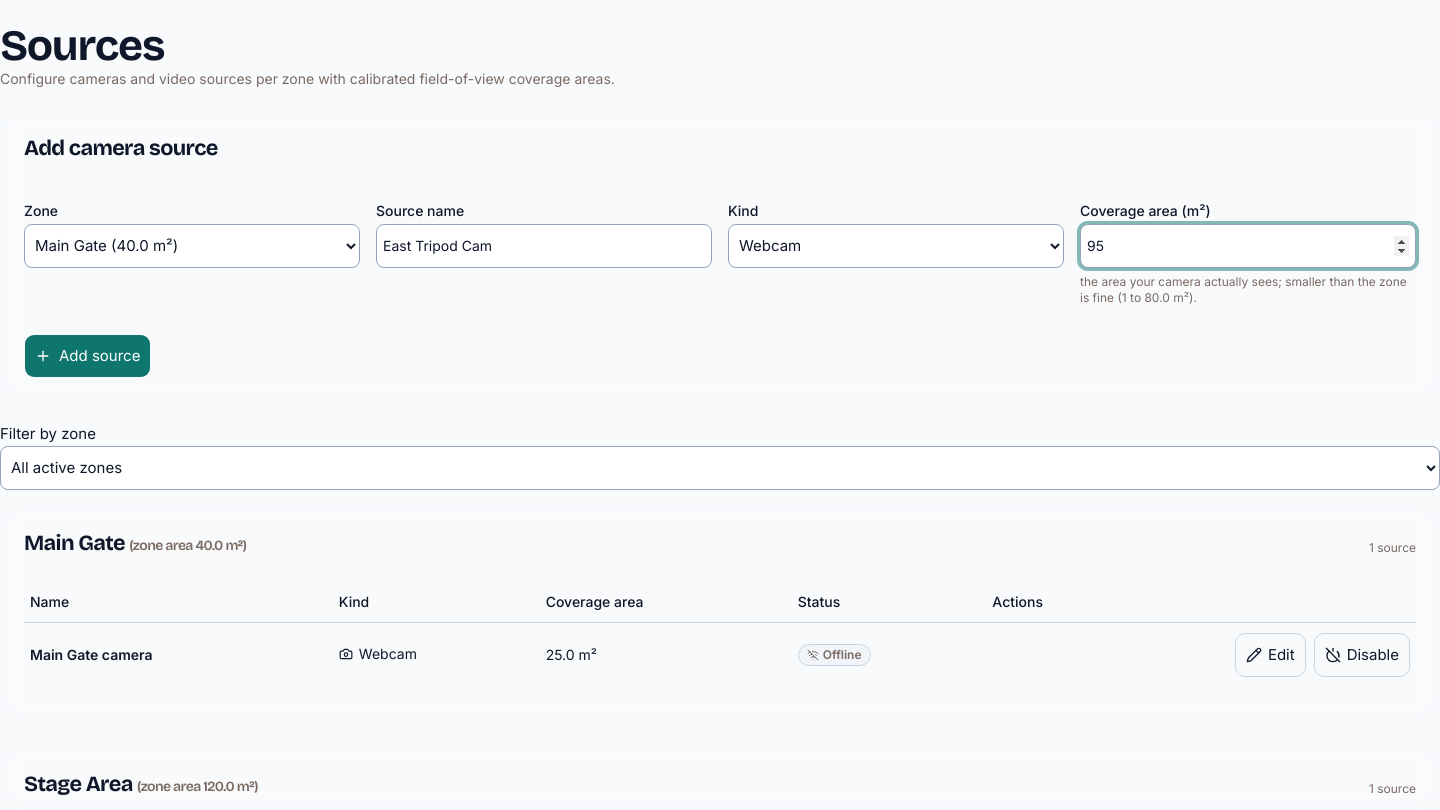
it: AdminSourcesPage (/admin/sources) › validates 1 <= coverage <= 2x zone area, creates/edits/disables sources, and passes axe
Earlier steps of the test are not shown.
Later steps or results of the test are not shown.
Click the button "Add source": click(88, 356) [24, 334, 151, 378]
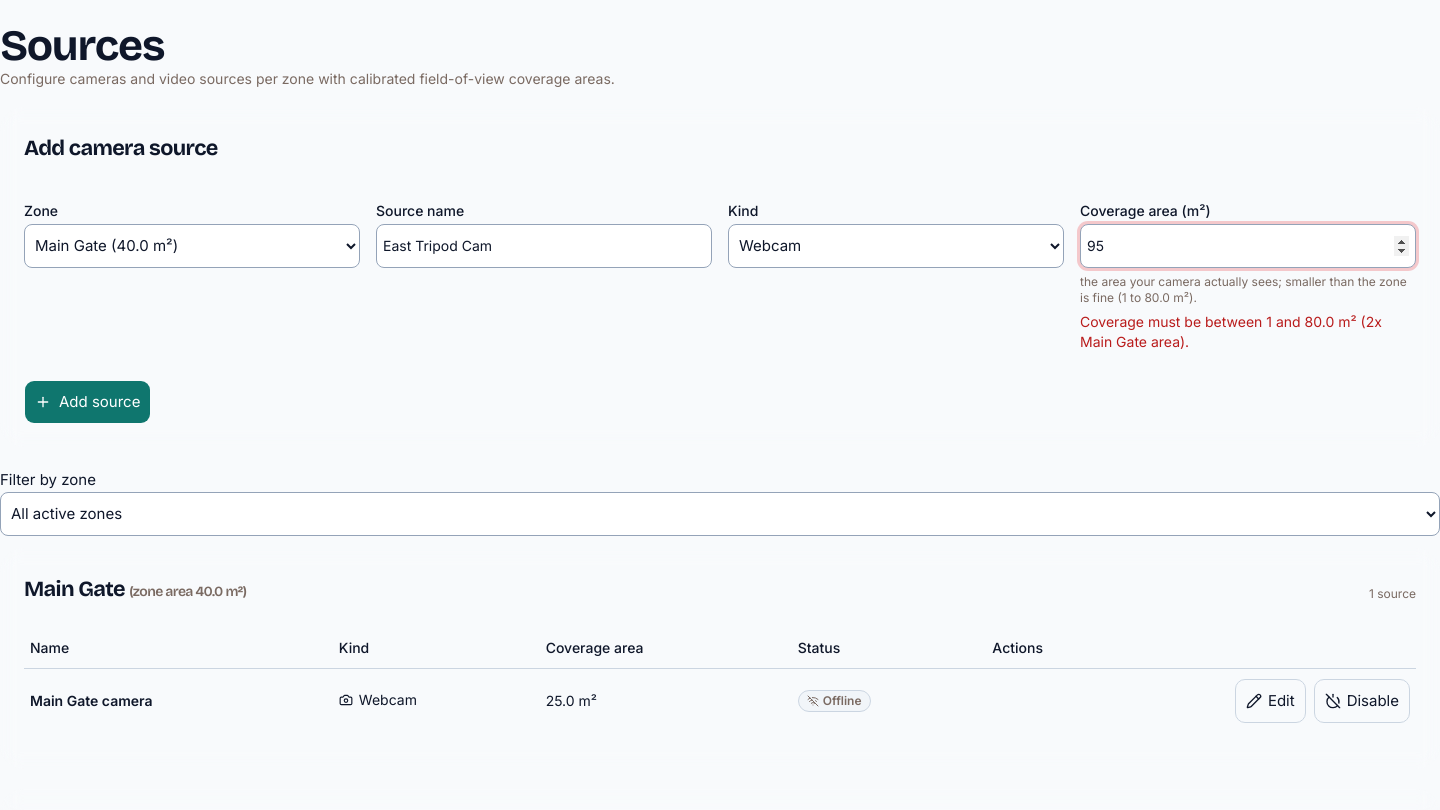
Result: the text "Coverage must be between 1 and 80.0 m² (2x Main Gate area)." is shown at [1080, 312, 1416, 352]
Replace the text in the number field labelled "Coverage area (m²)" with "25.5": (1248, 246) [1080, 224, 1416, 268]
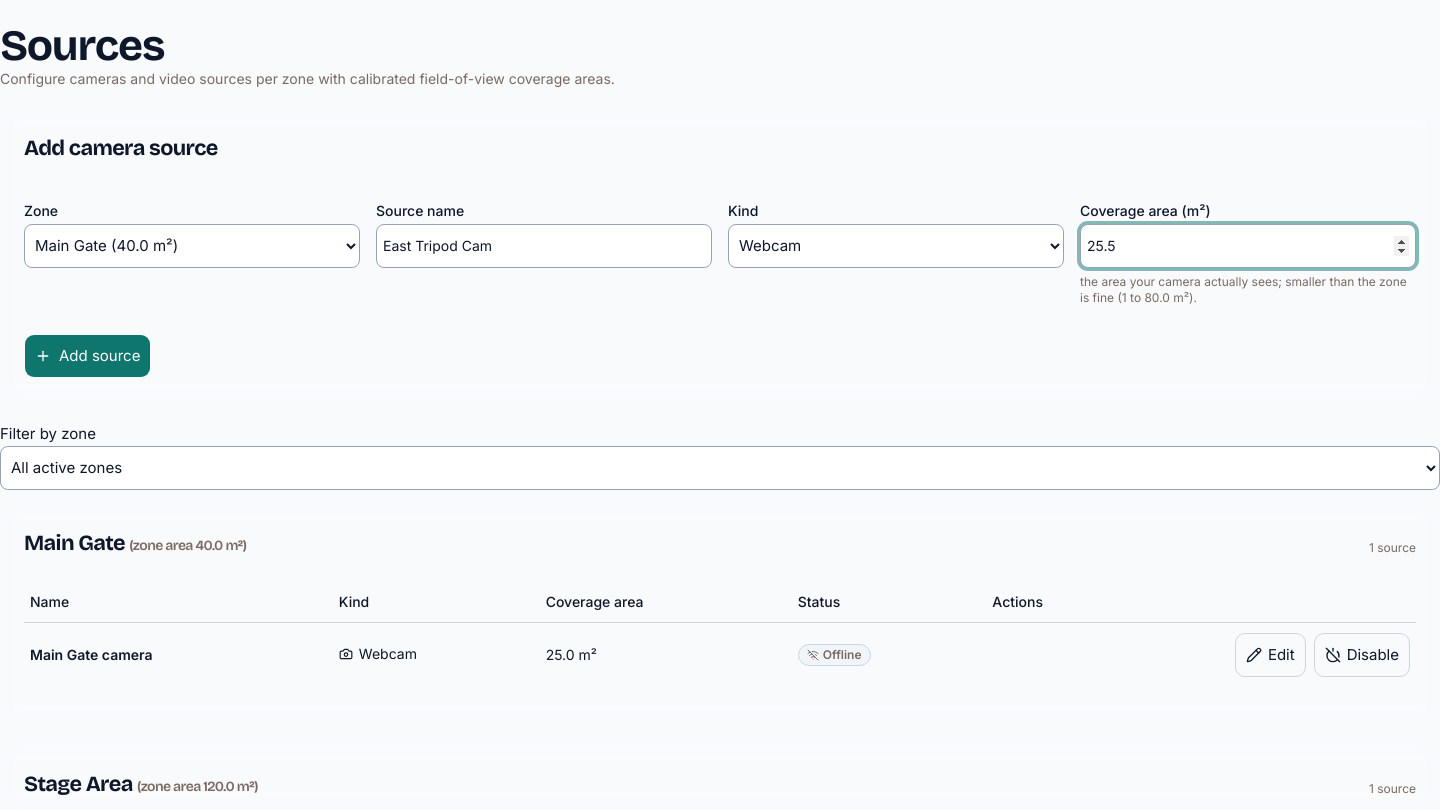
Click the button "Add source": click(88, 356) [24, 334, 151, 378]
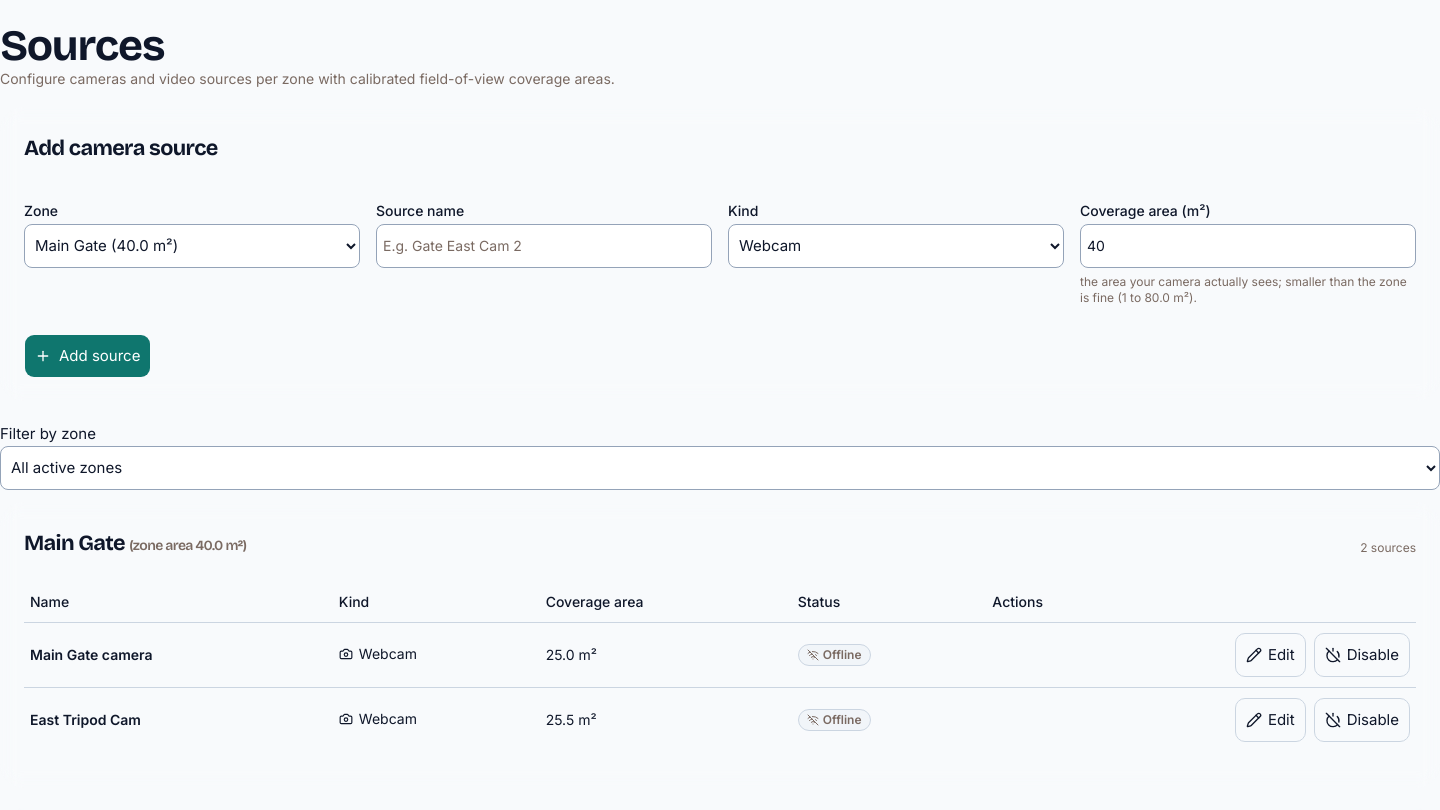
Result: the text "East Tripod Cam" is shown at [24, 687, 333, 752]
Click the button "Edit" in the row of "East Tripod Cam": click(1270, 720) [1235, 698, 1306, 742]
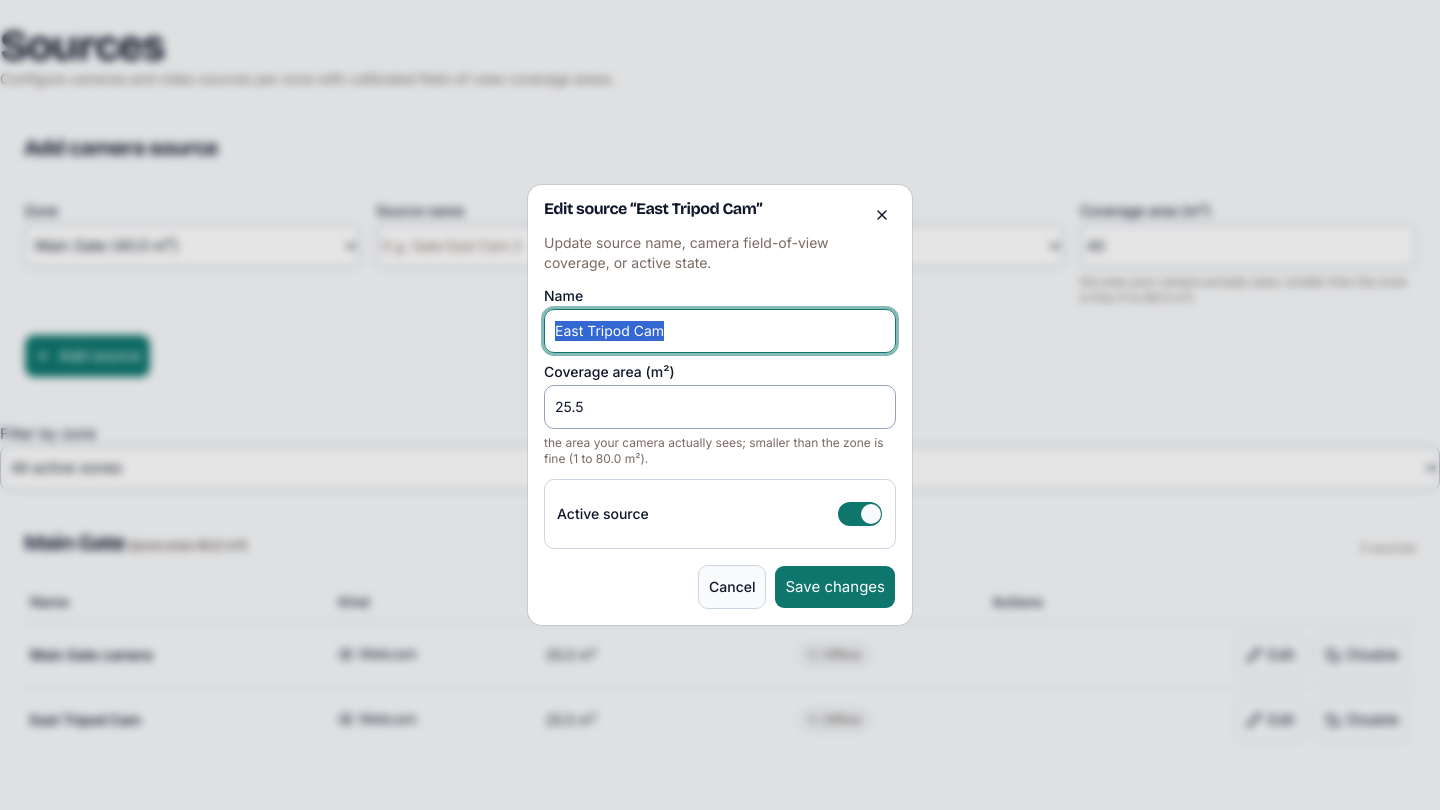
Replace the text in the number field labelled "Coverage area (m²)" with "30": (720, 407) [544, 385, 896, 429]
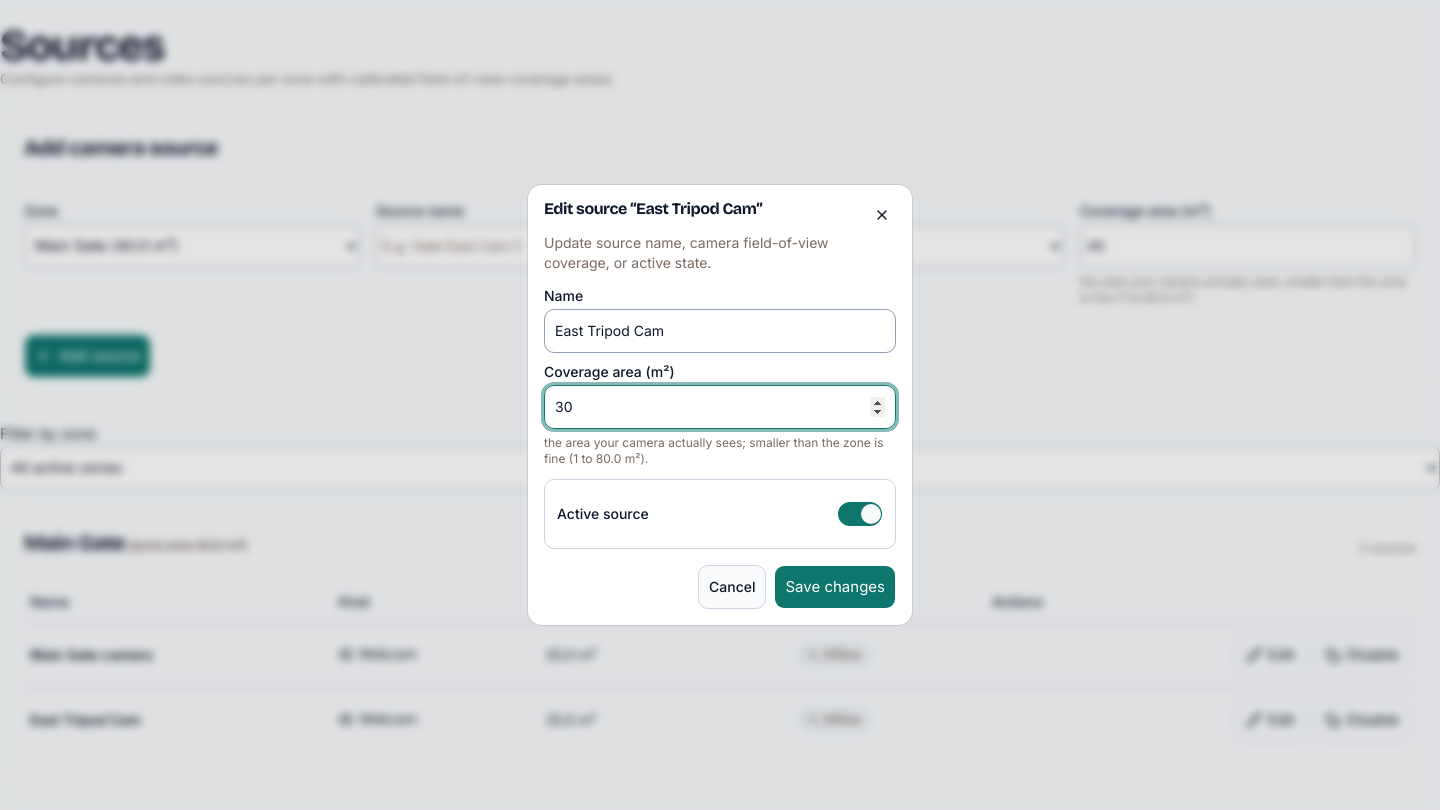
Click the button "Save changes": click(835, 587) [774, 565, 896, 609]
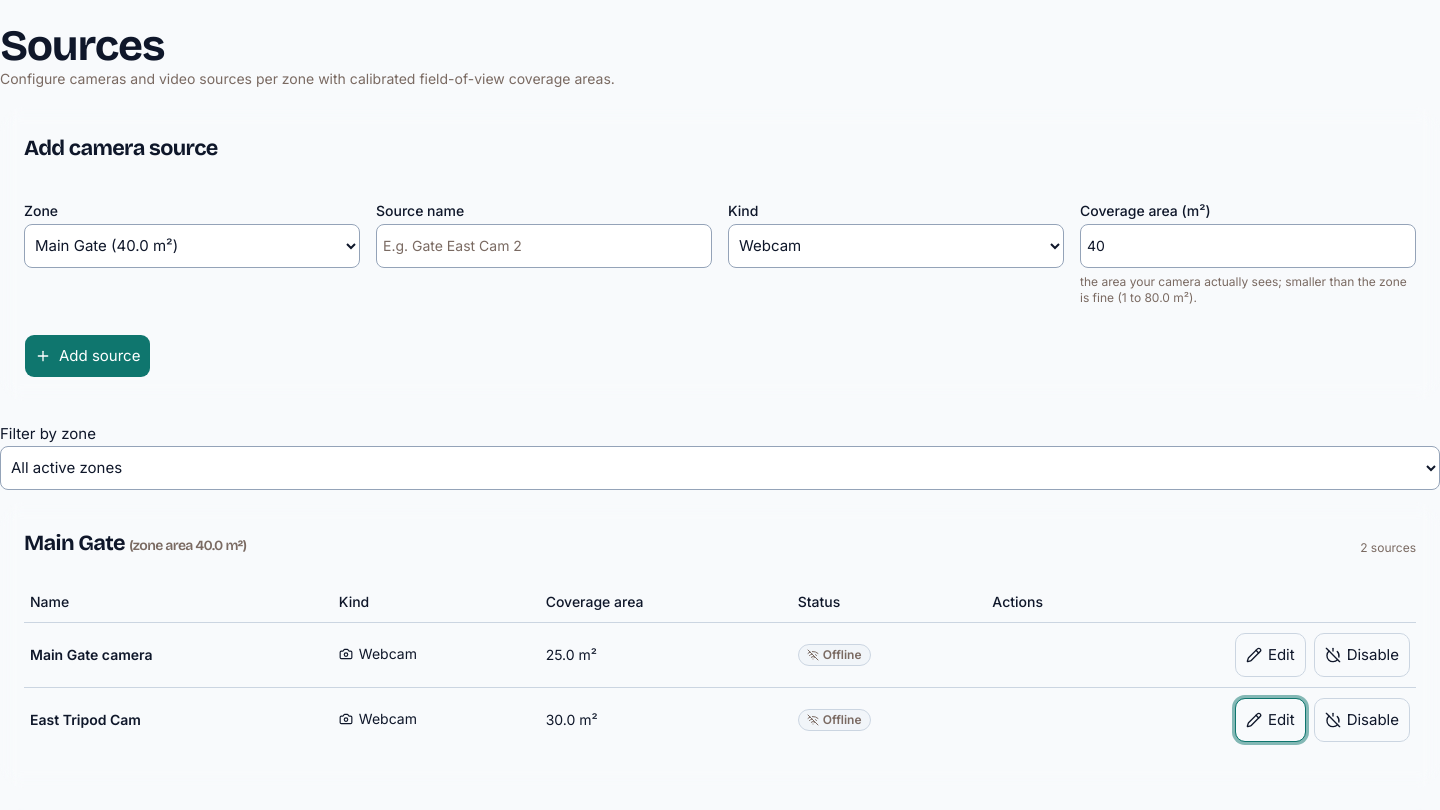
Result: the text "30.0 m²" is shown at [540, 687, 792, 752]
